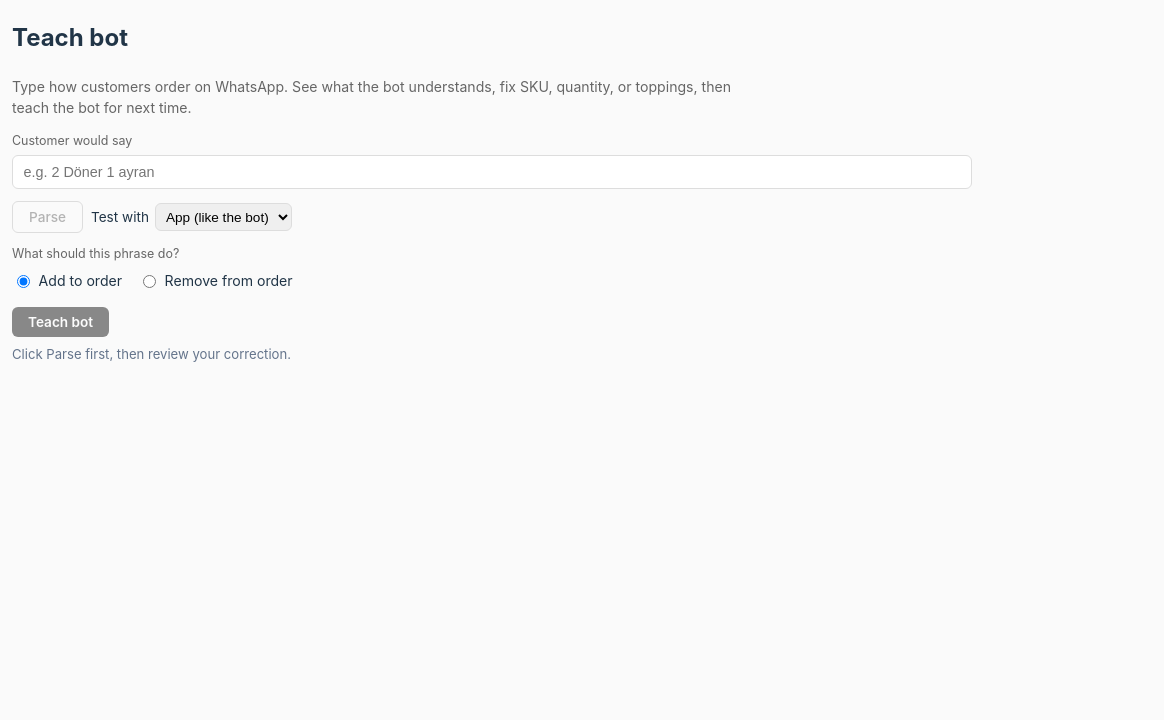
Test case: IntentPlaygroundPage › enables teach bot after changing sku
The width and height of the screenshot is (1164, 720).
In the field with placeholder "e.g. 2 Döner 1 ayran": point(492, 172) [12,155,972,189], type "2 doner"
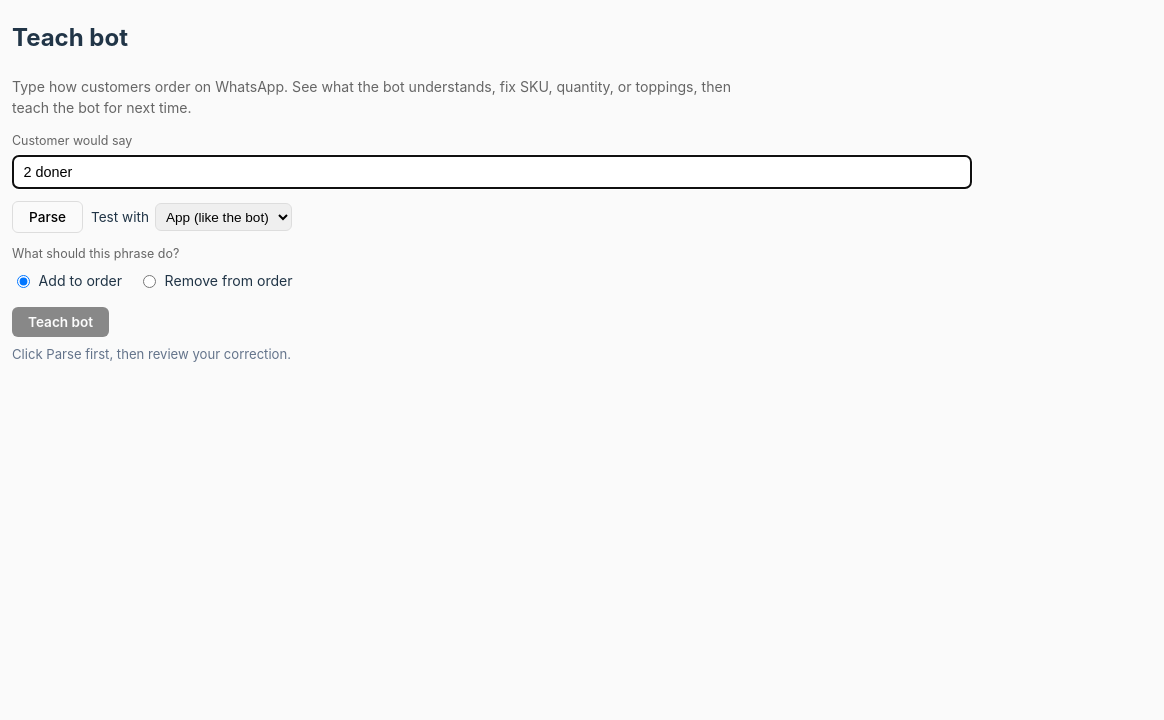
Click the button "Parse": point(48, 217) [12,201,83,233]
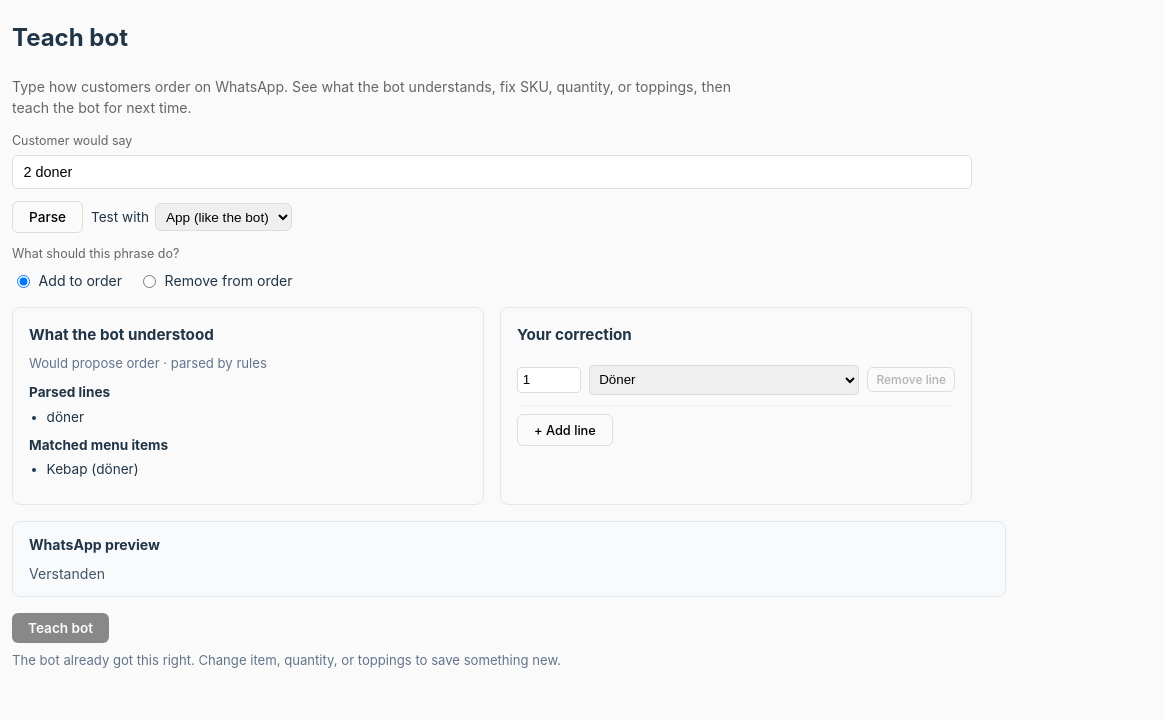
Expected: the button "Teach bot" is disabled, [12,613,109,643]
Select "Ayran" in the 2nd dropdown: point(724, 380) [589,365,859,395]
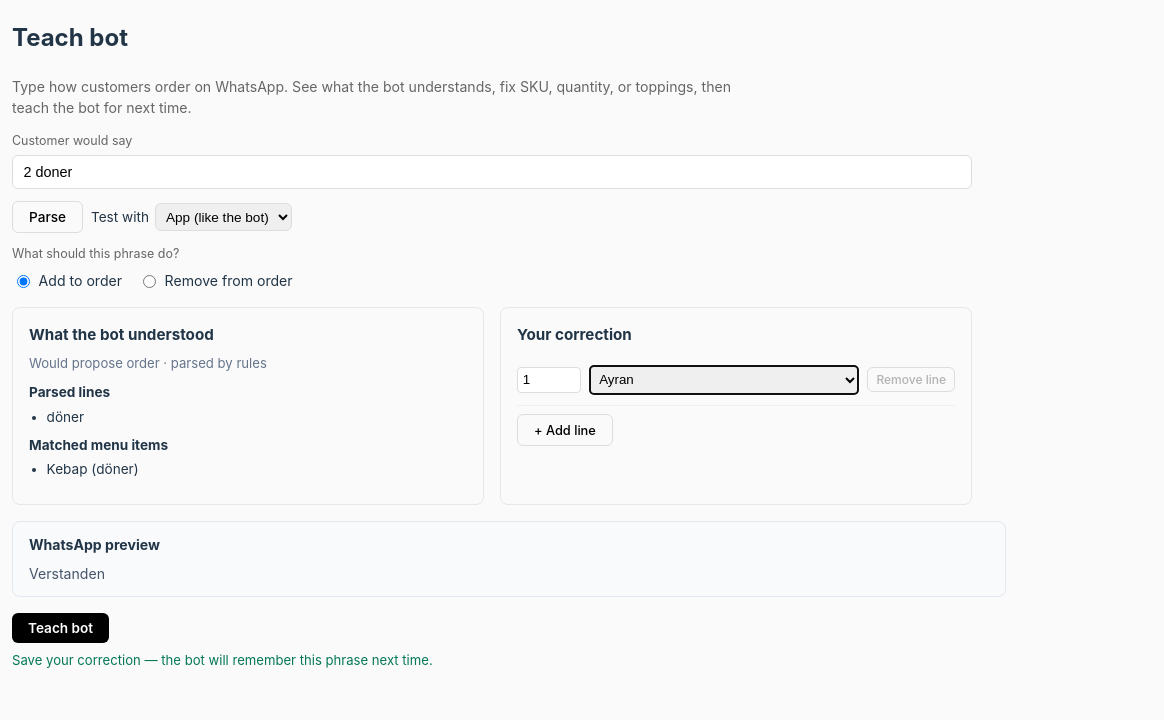
Expected: the button "Teach bot" is enabled, [12,613,109,643]
